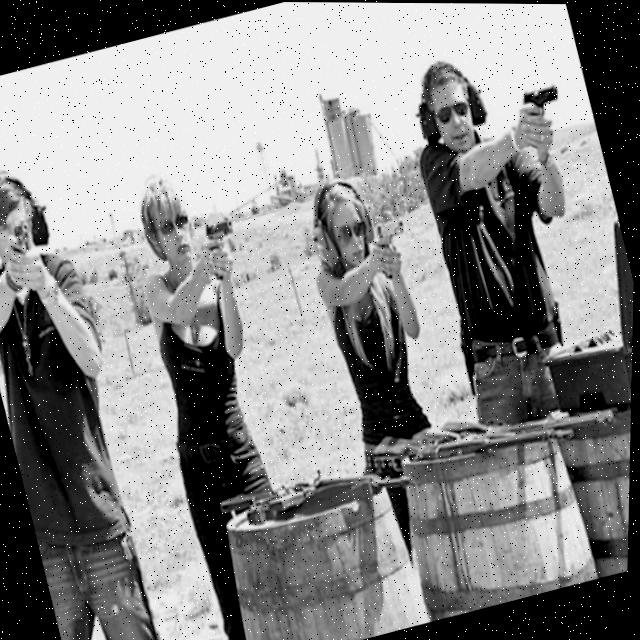firearm: (368, 385, 577, 488), (409, 378, 617, 475), (217, 442, 415, 534), (438, 387, 570, 448)
pistol: (199, 212, 247, 282), (368, 212, 417, 280), (517, 79, 563, 119), (9, 216, 36, 255)
